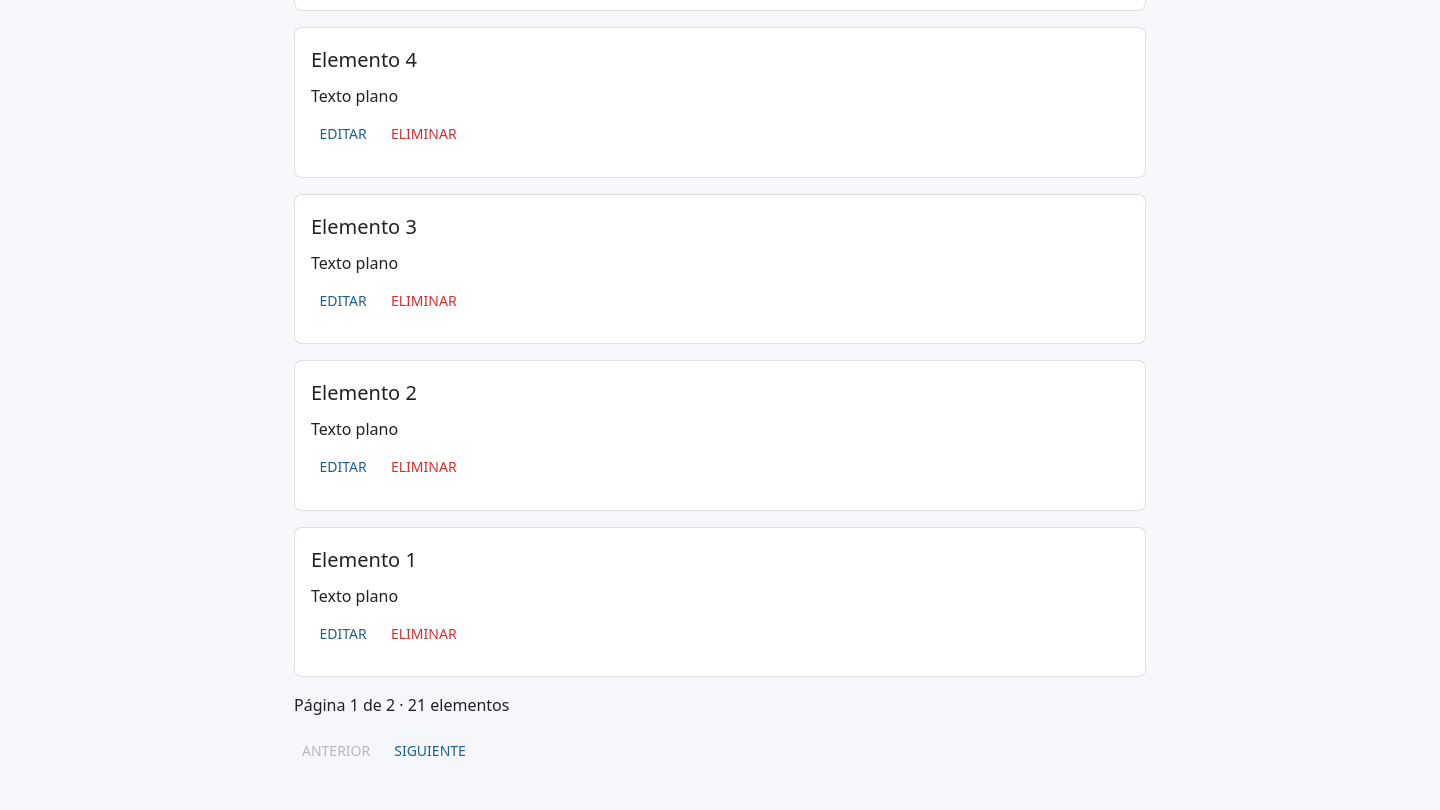
Test: ReferencePage › paginates and adjusts to a valid page after deleting its final item
The image size is (1440, 810).
(page scrolled)
Click the button "Siguiente": coordinates (430, 752) [386,734,474,770]
(page scrolled)
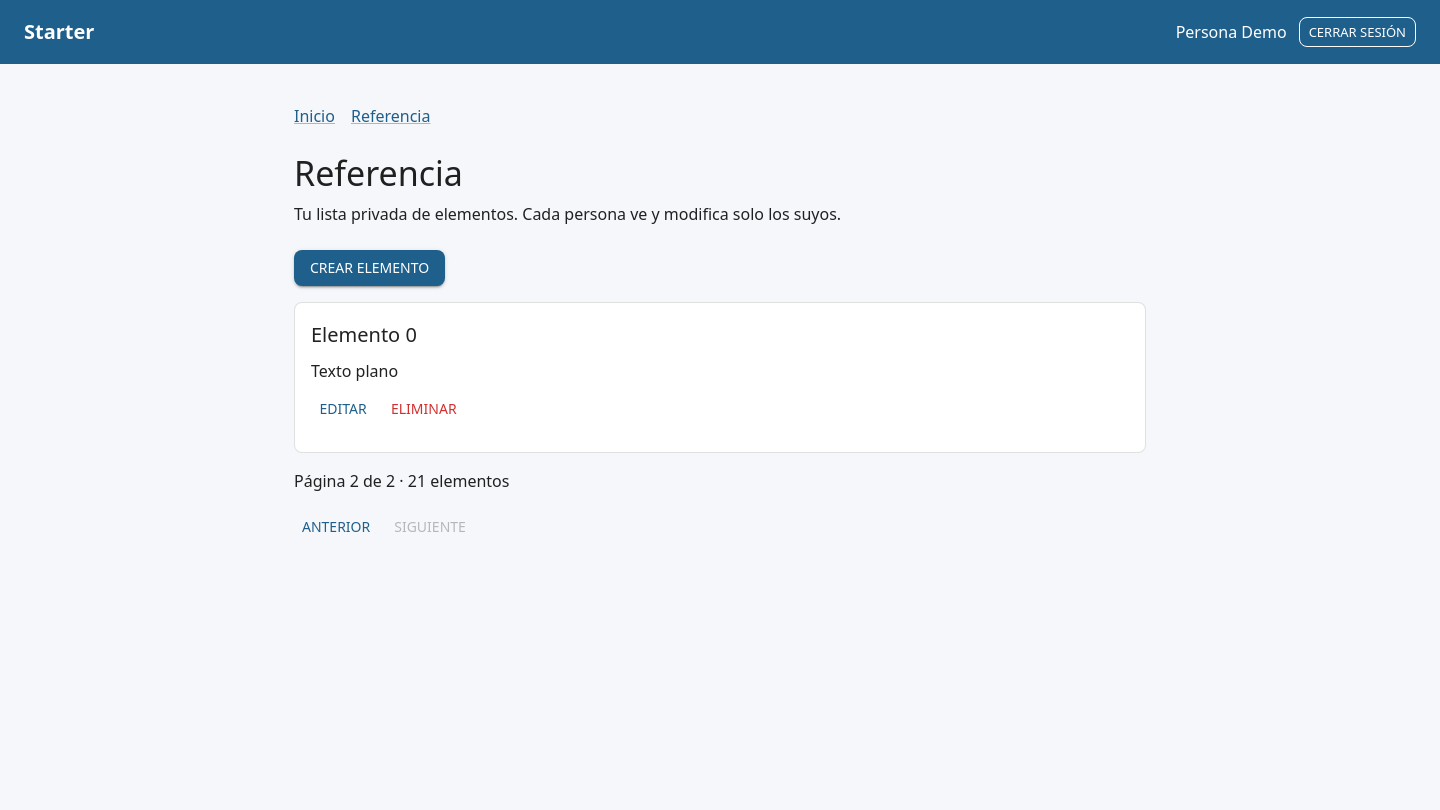
Result: the heading "Elemento 0" is shown at [311,322,417,348]
Click the button with aria-label "Eliminar Elemento 0": coordinates (424, 410) [383,392,465,428]
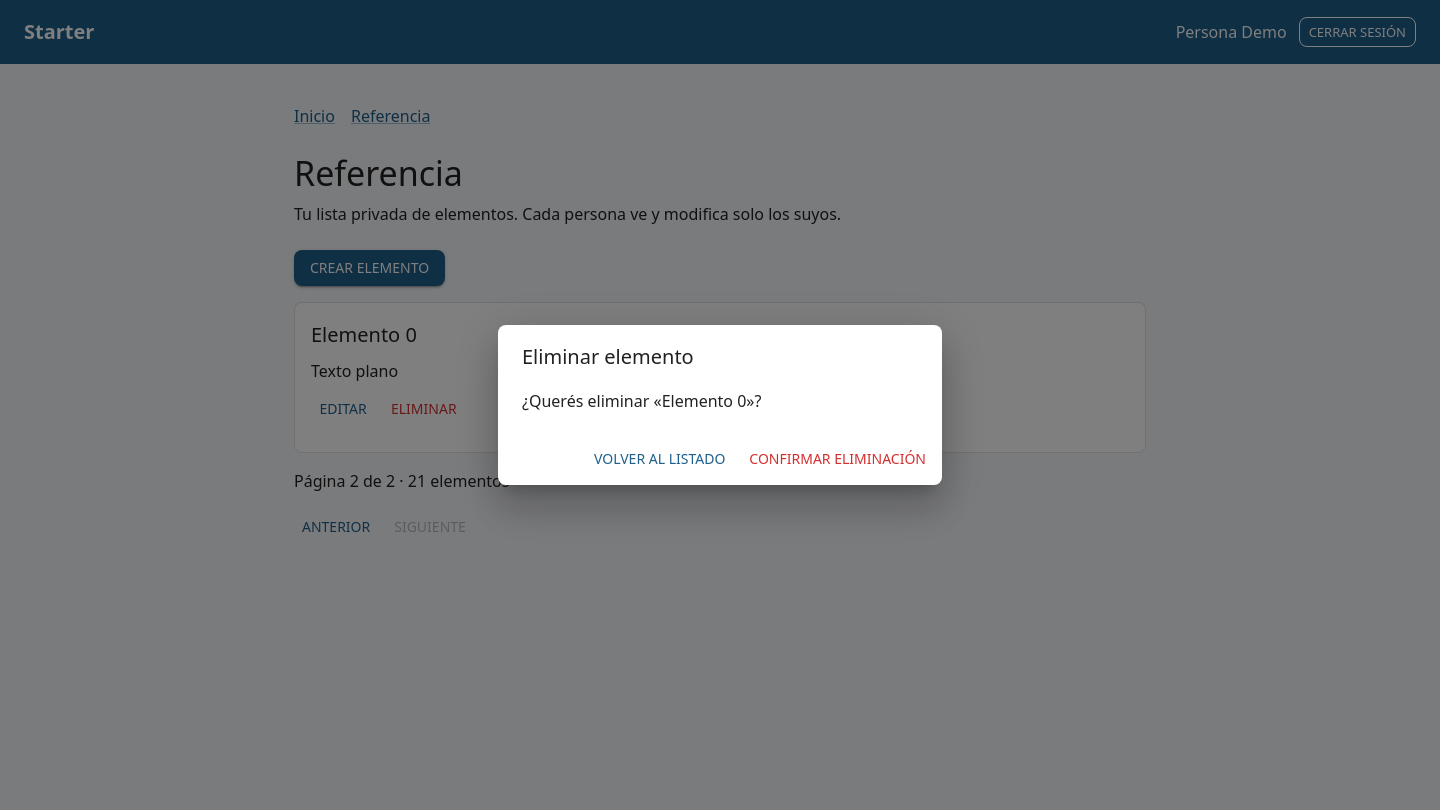
Click the button "Confirmar eliminación": coordinates (838, 459) [741,441,934,477]
(page scrolled)
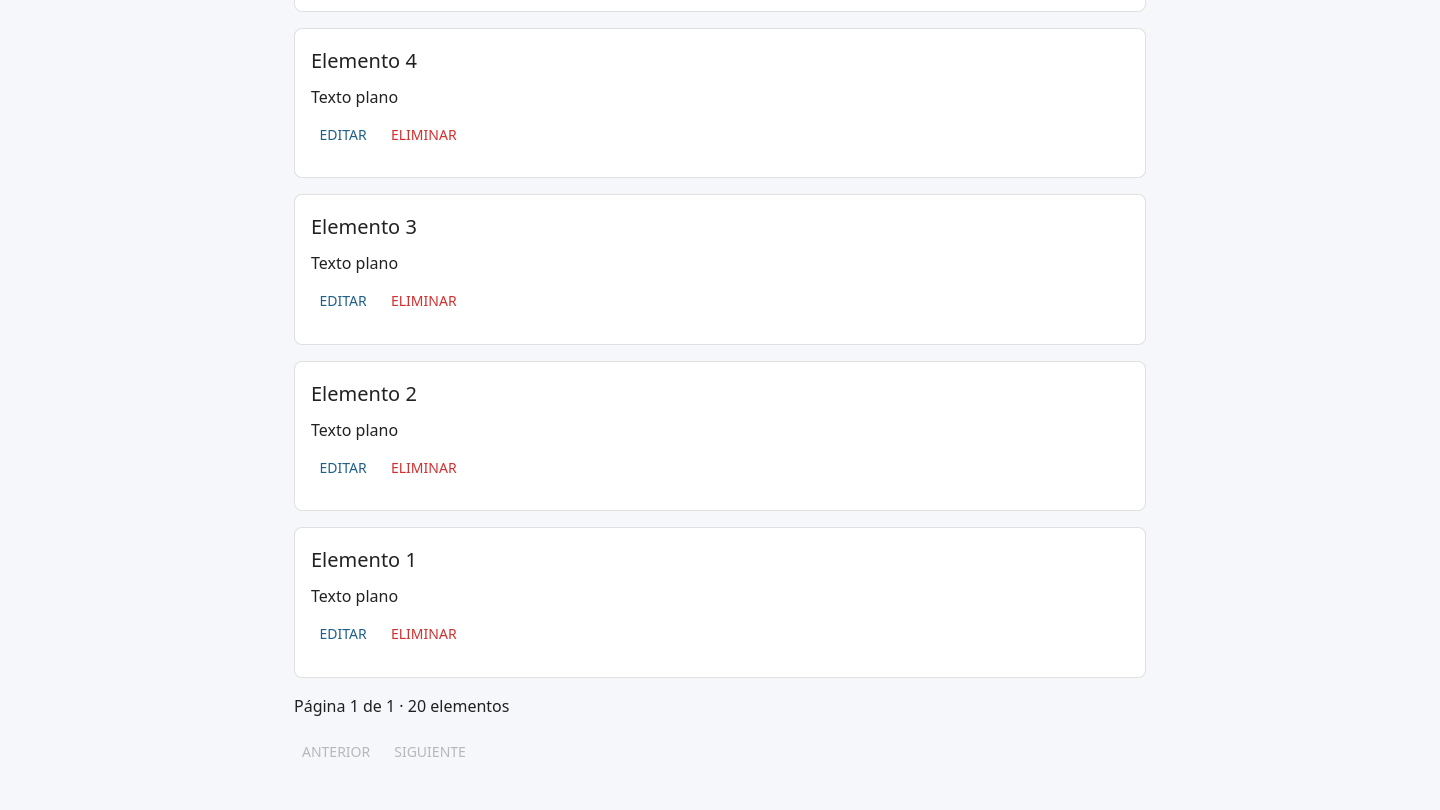
Result: the text "Página 1 de 1 · 20 elementos" is shown at [294,694,509,716]
